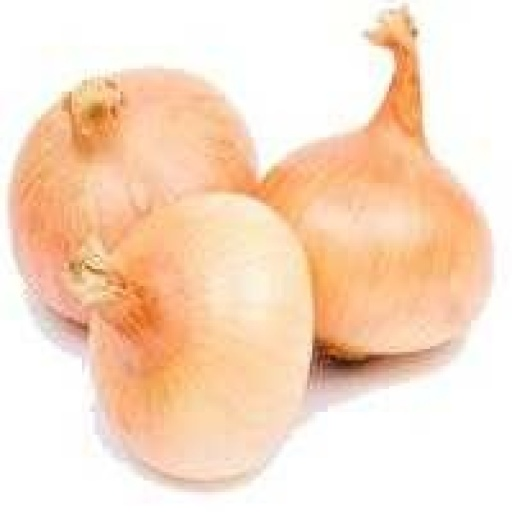Zwiebel: (261, 4, 494, 366), (74, 192, 314, 482)
